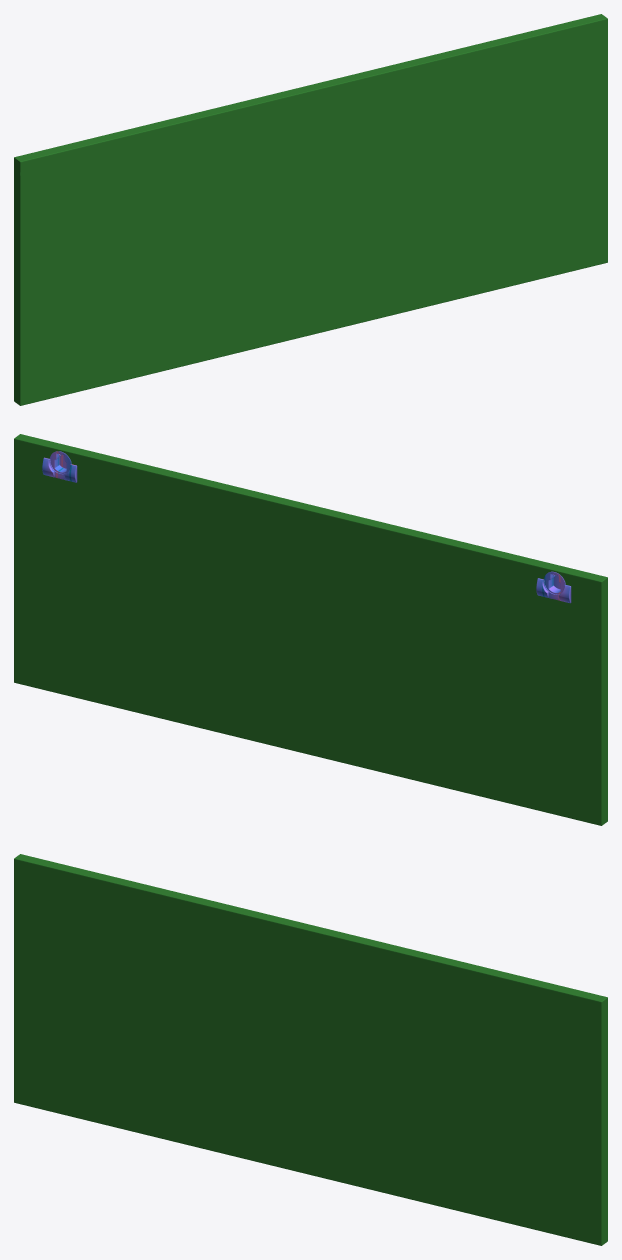
File: SM_Kitchen_04_Door_01.fbx
The picture shows the model from 3 angles, top to bottom: view 1: azimuth 30°, elevation 25°; view 2: azimuth 150°, elevation 25°; view 3: azimuth 330°, elevation 25°; orthographic projection.
Parts seen in each view (by area): view 1: SM_Kitchen_04_Door_01; view 2: SM_Kitchen_04_Door_01; view 3: SM_Kitchen_04_Door_01.
Part boxes in pixels (x1,y1,x2,y2): SM_Kitchen_04_Door_01: [14, 14, 607, 405]; SM_Kitchen_04_Door_01: [14, 434, 607, 825]; SM_Kitchen_04_Door_01: [14, 854, 607, 1245].
Size of the model in its own units: 99.69 by 39.6 by 2.48.
2 materials, 1 textured.
